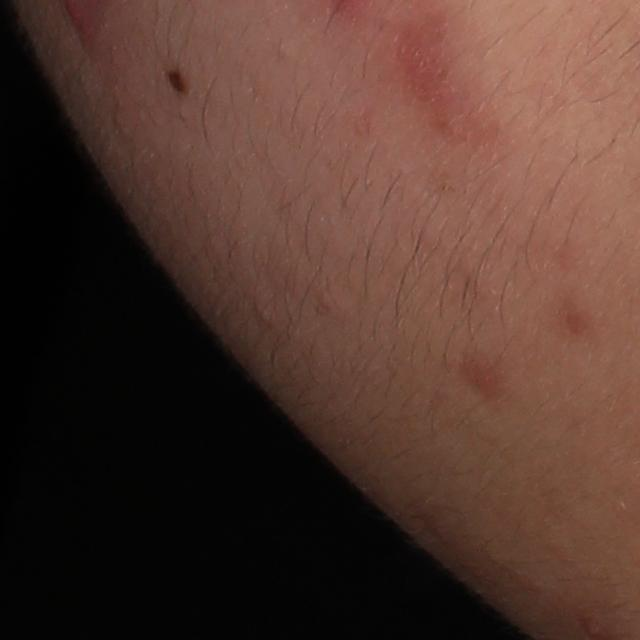nevus: (159, 69, 189, 96)
